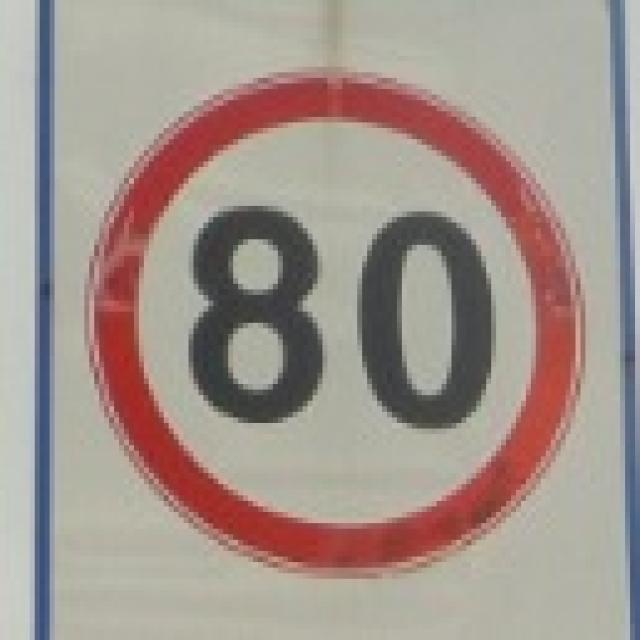Speed Limit -80-: (183, 204, 498, 433)
